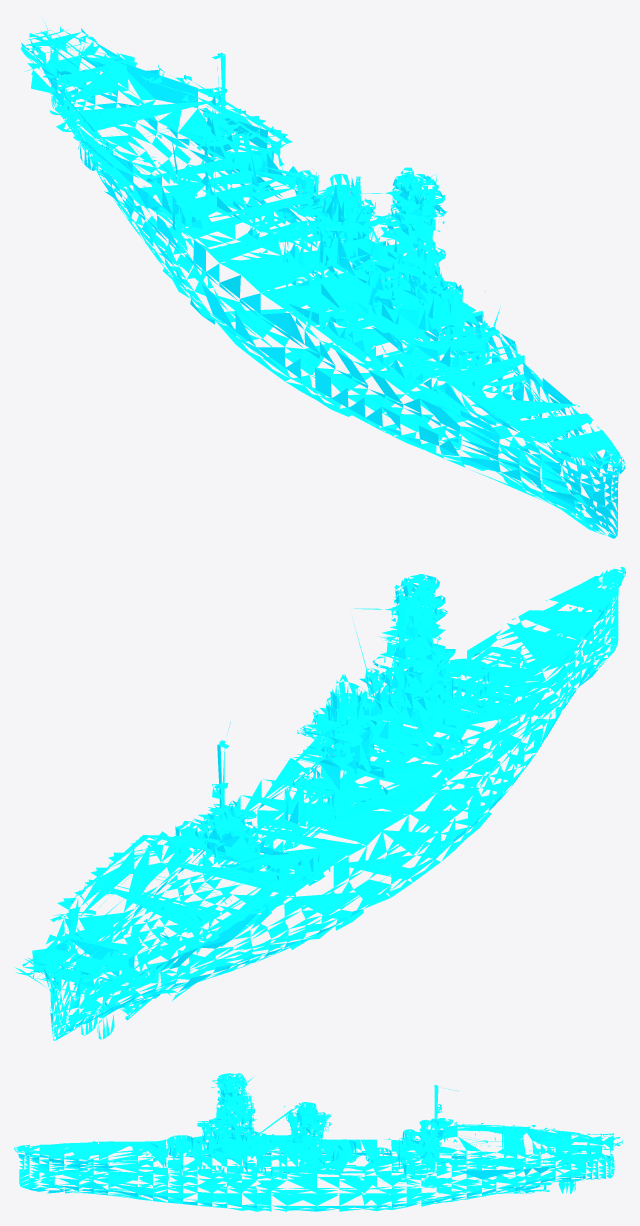
Rendered from Ise.glb.
3 renders of one model, top to bottom at view 1: azimuth 30°, elevation 25°; view 2: azimuth 150°, elevation 25°; view 3: azimuth 270°, elevation 25°, orthographic. The views are drawn at different scales.
Size of the model in its own units: 2.53 by 3.19 by 14.6.
